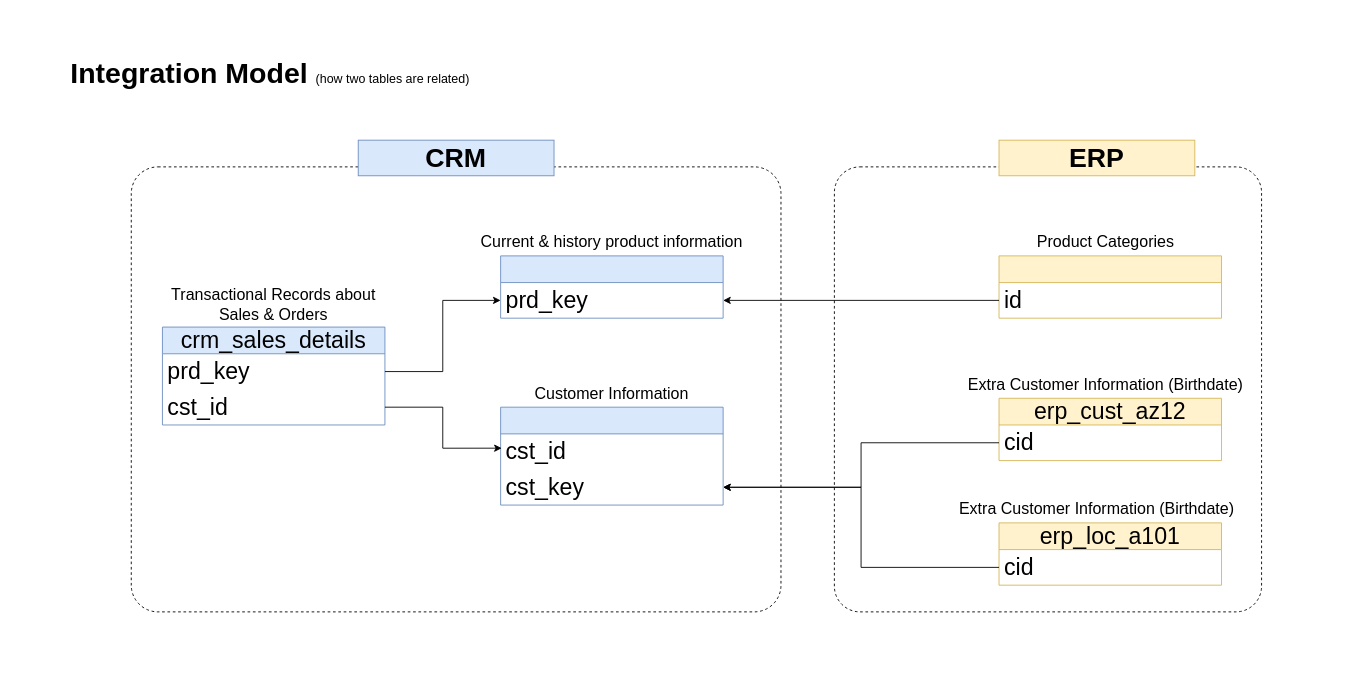
This 1347x698 diagram has some shape labels left out. The box of each missing label's shape, as (x1, y1, x2, y2) in pixels:
crm_cust_info: (500, 406, 723, 505)
crm_prd_info: (500, 255, 723, 318)
erp_px_cat_g1v2: (998, 255, 1222, 318)
